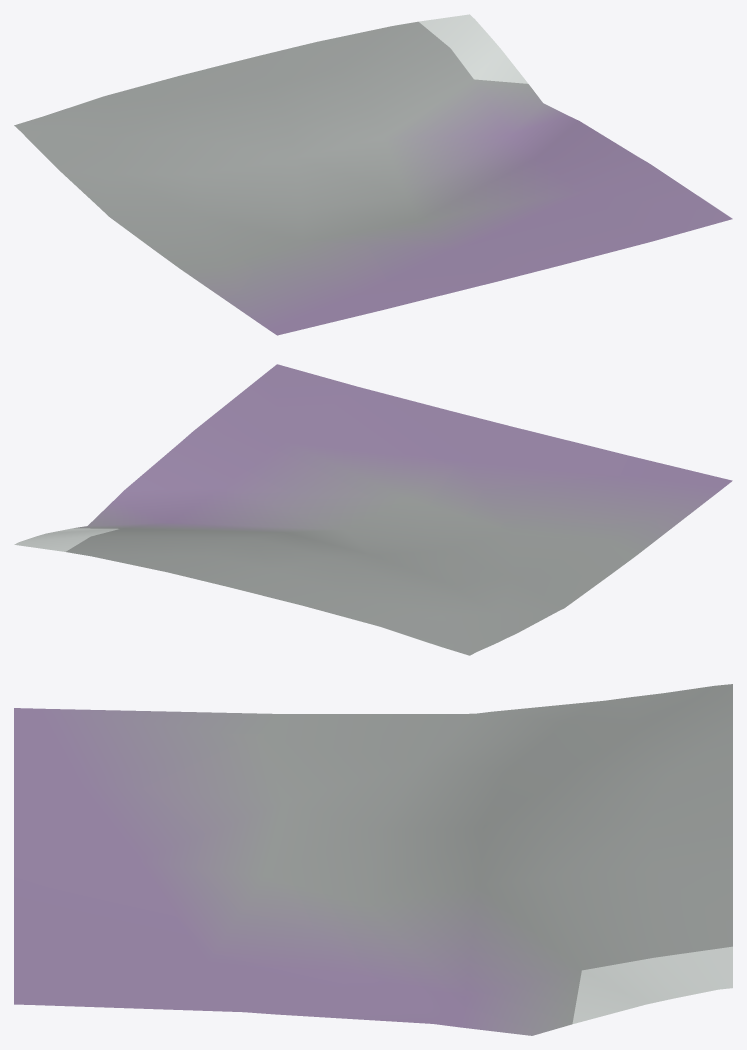
3 views of the same model, one above another, from view 1: azimuth 30°, elevation 25°; view 2: azimuth 150°, elevation 25°; view 3: azimuth 270°, elevation 25° (orthographic). The views are drawn at different scales.
Parts seen in each view (by area): view 1: G:\FFXIV-MapTools\exports\m5f1\bg\ex4\02_mid_m5\fld\m5f1\bgp (×2); view 2: G:\FFXIV-MapTools\exports\m5f1\bg\ex4\02_mid_m5\fld\m5f1\bgp (×2); view 3: G:\FFXIV-MapTools\exports\m5f1\bg\ex4\02_mid_m5\fld\m5f1\bgp (×2).
Boxes of the visible parts, <box> form: G:\FFXIV-MapTools\exports\m5f1\bg\ex4\02_mid_m5\fld\m5f1\bgp (×2): <box>14,14,732,335</box>; G:\FFXIV-MapTools\exports\m5f1\bg\ex4\02_mid_m5\fld\m5f1\bgp (×2): <box>14,364,732,655</box>; G:\FFXIV-MapTools\exports\m5f1\bg\ex4\02_mid_m5\fld\m5f1\bgp (×2): <box>14,684,732,1035</box>.
Bounding box in the file's own units: 128 × 12.08 × 128.
